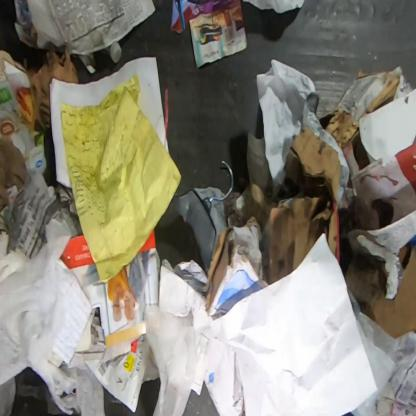cardboard: (161, 180, 275, 322), (268, 124, 341, 286), (324, 68, 400, 152), (26, 46, 79, 134)
rigid_plastic: (154, 160, 235, 276), (100, 42, 122, 63)
soft_plastic: (0, 218, 73, 415), (141, 303, 199, 415), (59, 361, 107, 415)
